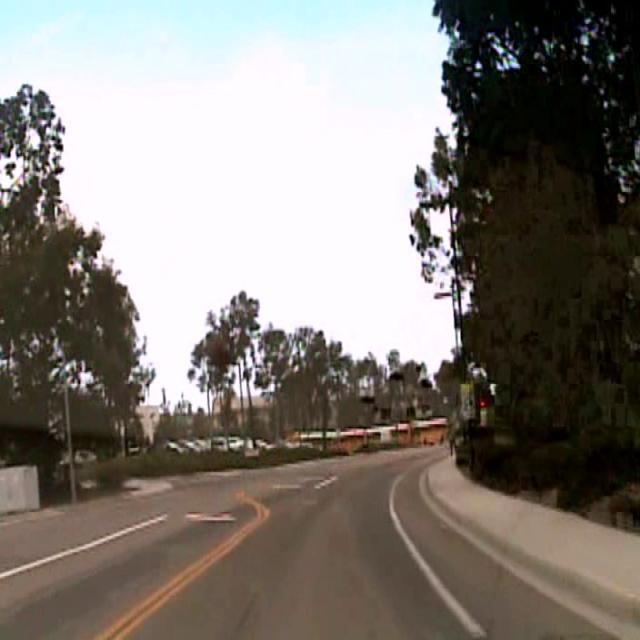speedLimit25: (459, 380, 476, 421)
